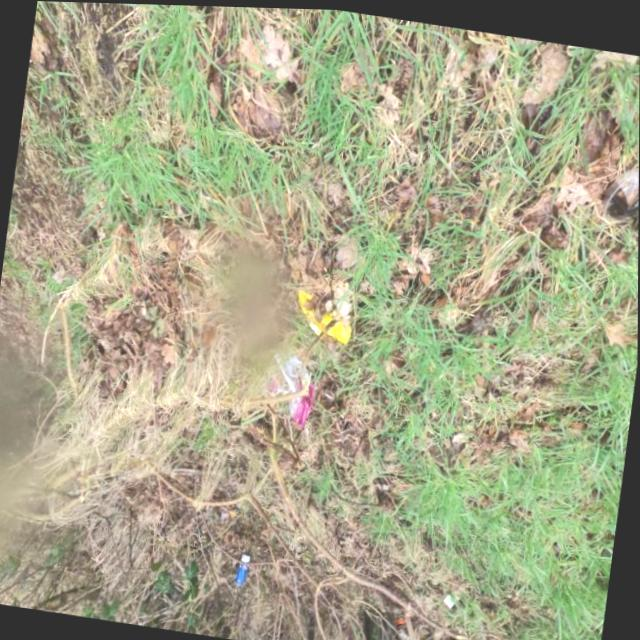Can-Metal: (234, 550, 252, 587)
Plastic: (256, 349, 320, 434), (292, 285, 356, 346), (228, 508, 236, 518)
